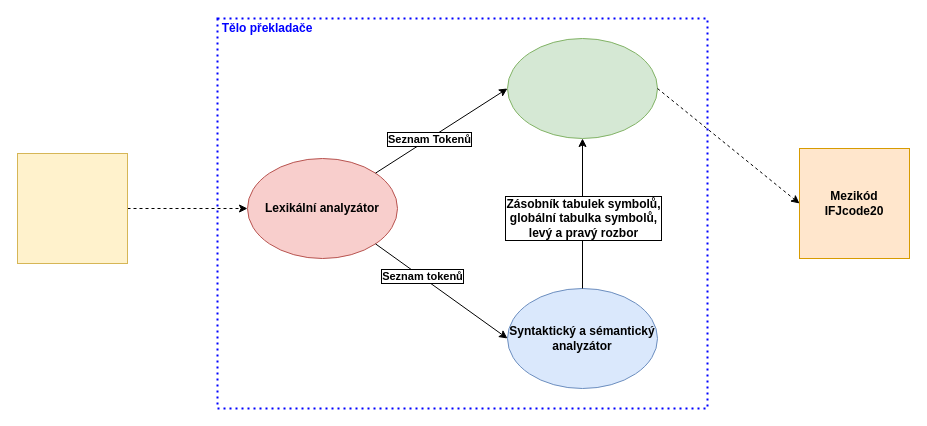
Some shapes in this 927 by 426 pixel diagram are drawn without their labels. The centre of each missing label's shape, as x and y in pixels:
Generátor mezikódu: point (582, 88)
Zdrojový kód v jazyce IFJ20: point (72, 208)
